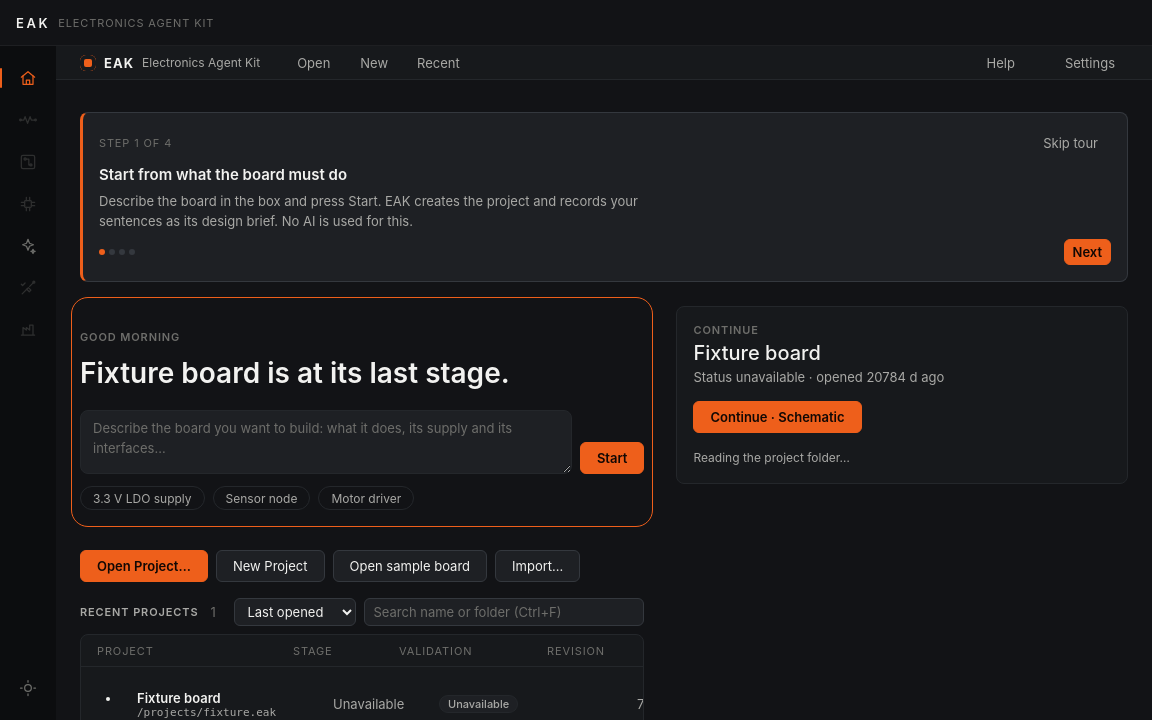
desktop shell flow › undo sends the rendered revision and the view refreshes from the engine
Click the text "Fixture board" below "Validation" at (179, 698), box x1=137 y1=690 x2=221 y2=706
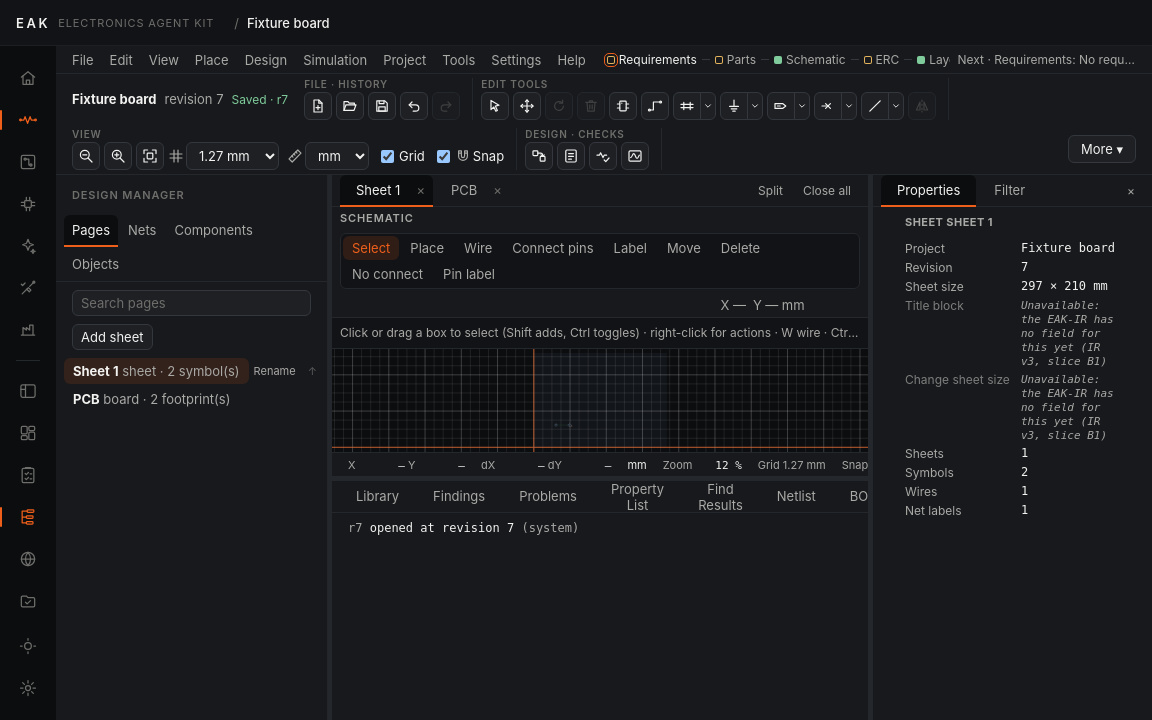
Expected: the picture named "Schematic canvas" is shown, x1=332 y1=349 x2=868 y2=452
Expected: the list item "r7 opened at revision 7 (system)" is shown, x1=348 y1=521 x2=579 y2=535
Click the button named "Undo" at (414, 106), box x1=400 y1=92 x2=428 y2=120
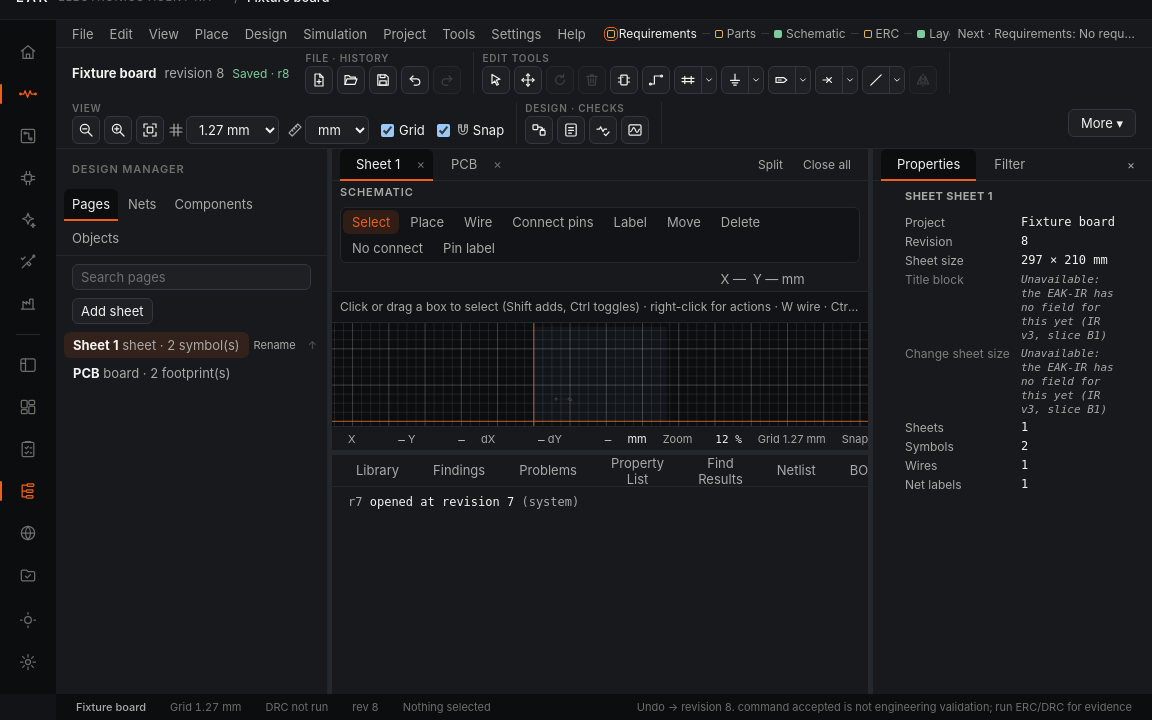
Expected: the text "revision 8" is shown, x1=164 y1=65 x2=224 y2=81
Expected: the message shows "Undo → revision 8", x1=637 y1=700 x2=1132 y2=714
